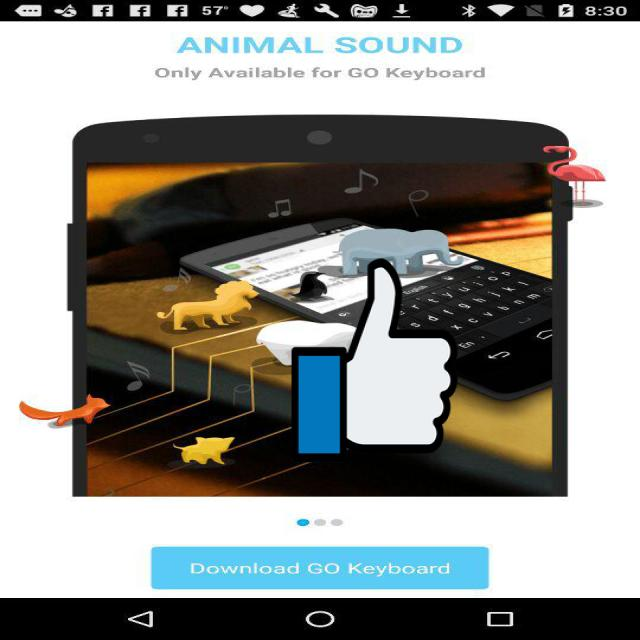privacy zuckering: (292, 254, 458, 467)
